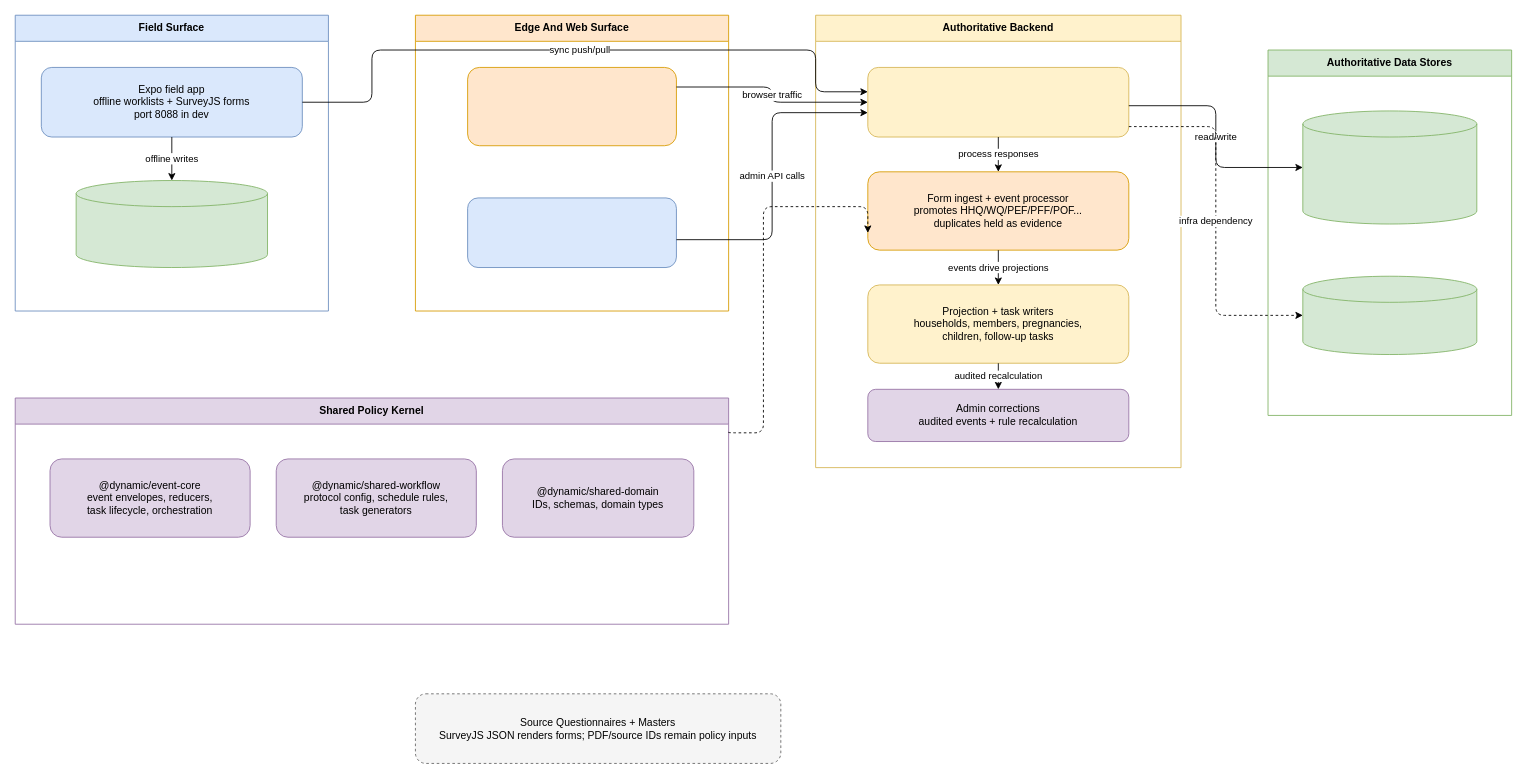
Some shapes in this 1527 by 779 pixel diagram are drawn without their labels. Here are the shapes that lost their labels. From the top down, the centre of each, then its label:
At (571,106): "Nginx edge localhost:58080 /api/v1 -> API / -> Admin".
At (998,102): "Express API auth, masters, pull/push sync port 3310 in dev".
At (1389,167): "Postgres forms, events, projections, tasks, corrections, users port 55432 in dev".
At (171,224): "Local device store tasks, drafts, submissions, domain_events_outbox".
At (571,232): "React/Vite admin review, corrections, DQ port 5317 in dev".
At (1389,315): "Redis runtime cache / infra service port 56379 in dev".
